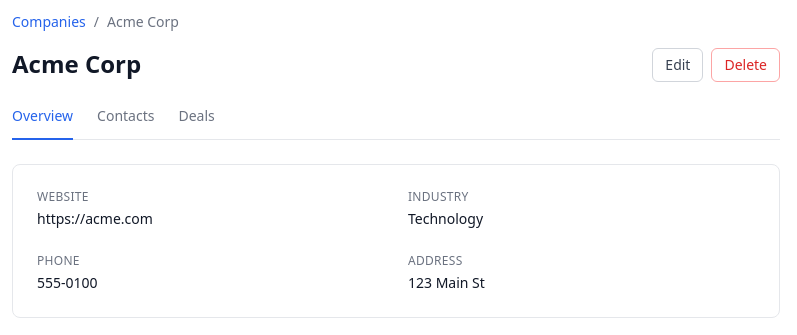
Test case: CompanyDetailPage — tabs › US1-AC2: Contacts tab shows linked contacts
Expected: the heading "Acme Corp" is shown, [12,48,141,80]
What coordinates should you click on to do the following:
click the button "contacts"
I would click on:
 (126, 123)
Its box is [97,106,154,140].
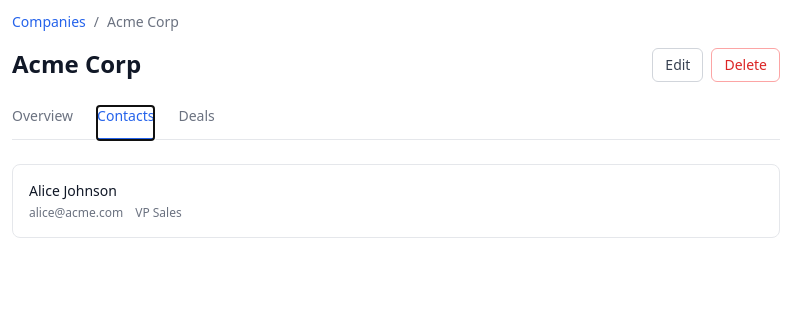
Expected: the text "Alice Johnson" is shown, [29,181,117,200]
